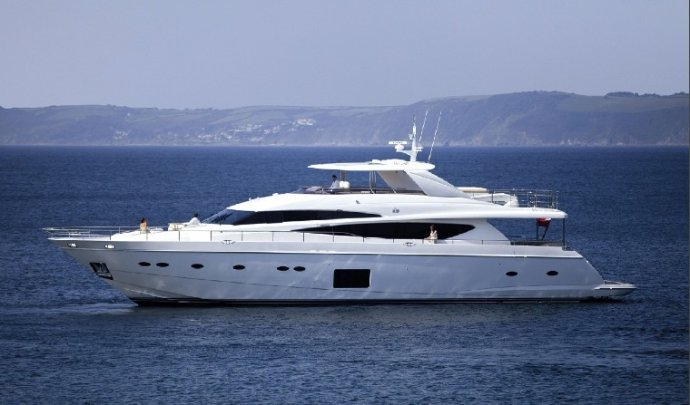yacht: (39, 112, 629, 308)
